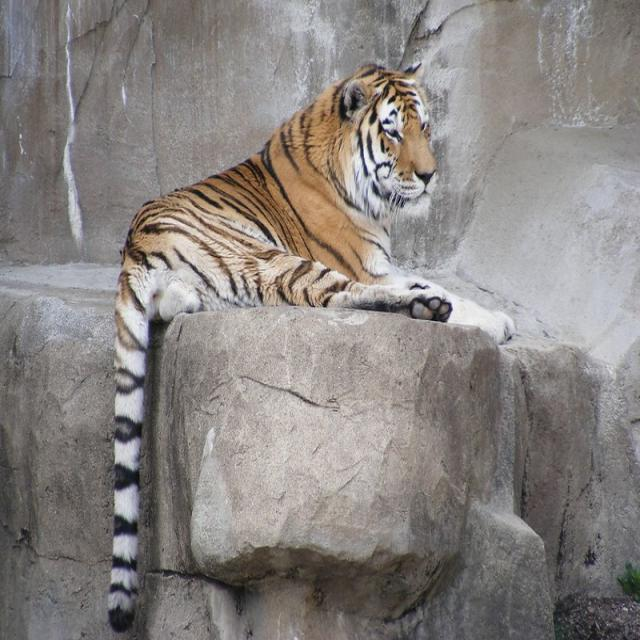Tiger: (107, 54, 513, 632)
